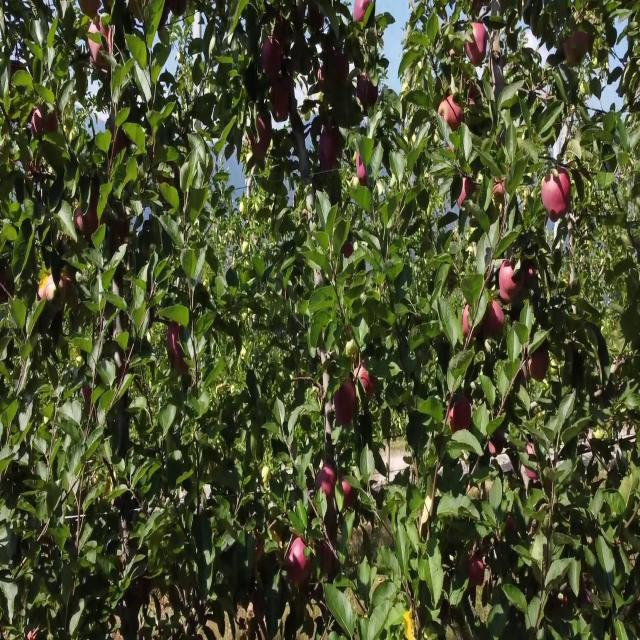apple: (544, 170, 572, 220), (500, 263, 532, 306), (288, 540, 313, 588), (88, 21, 112, 71), (316, 127, 342, 172), (168, 327, 189, 377), (440, 92, 464, 135), (272, 78, 294, 124), (468, 21, 489, 68), (500, 263, 522, 306), (356, 71, 379, 112), (252, 113, 272, 160), (264, 35, 284, 82), (32, 106, 60, 139), (328, 49, 351, 89), (76, 206, 103, 240), (484, 298, 505, 340), (456, 177, 477, 210), (452, 398, 472, 432), (572, 28, 593, 59), (532, 348, 550, 384), (316, 469, 336, 501), (464, 305, 482, 340), (336, 383, 356, 414), (468, 554, 486, 588), (556, 170, 572, 208), (520, 263, 536, 300), (564, 35, 581, 69), (276, 14, 292, 50), (76, 206, 92, 240), (320, 540, 335, 576), (360, 369, 377, 398), (352, 0, 372, 23), (80, 0, 101, 21), (340, 476, 354, 507), (492, 177, 508, 204), (492, 177, 507, 204), (356, 156, 369, 187), (252, 533, 264, 564), (312, 7, 325, 34), (40, 277, 55, 300), (4, 271, 15, 300), (336, 412, 353, 428), (316, 63, 327, 87), (344, 241, 354, 261), (84, 383, 92, 404)
